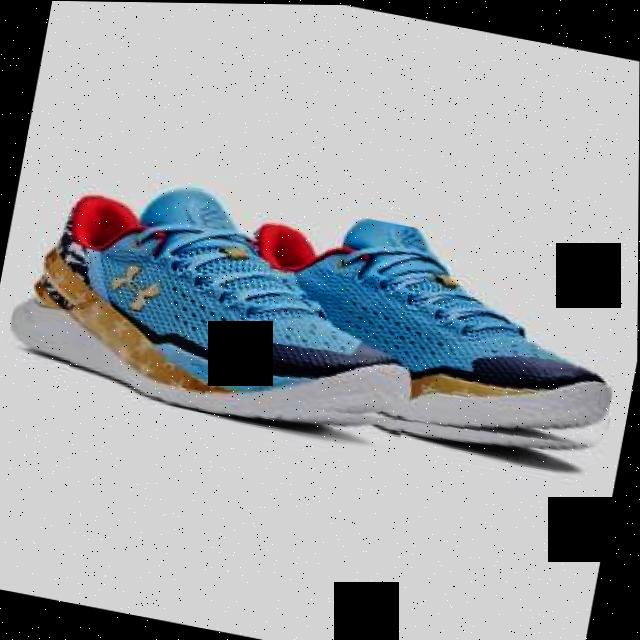shoe: (1, 158, 441, 450), (204, 193, 637, 469)
